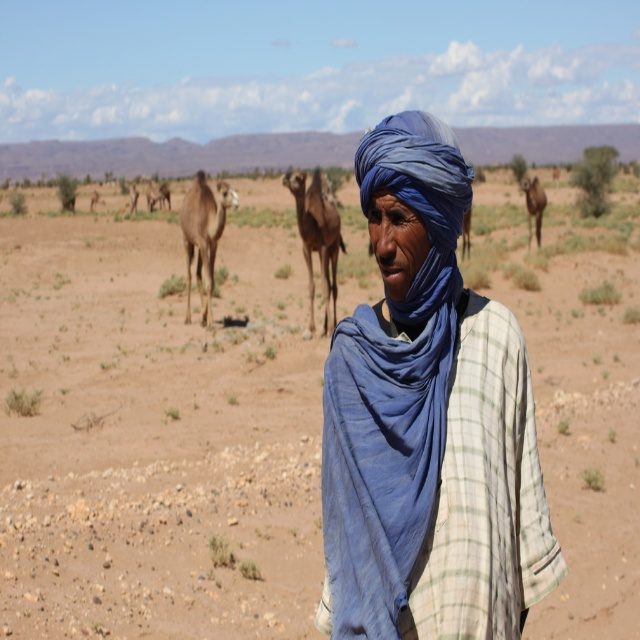Camel: (282, 163, 348, 339), (179, 173, 234, 327), (520, 174, 547, 255)
